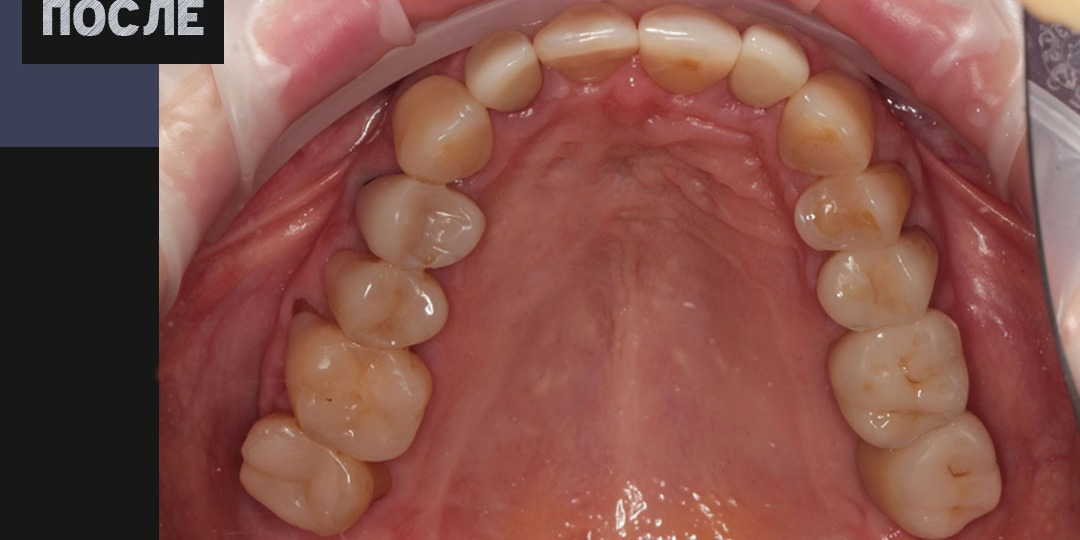UL1BC_decay: (797, 174, 900, 253)
UL1M_healthy: (833, 321, 968, 445)
UL2BC_healthy: (818, 242, 928, 328)
UL2M_decay: (876, 420, 1002, 536)
ULCI_decay: (637, 9, 740, 88)
ULC_healthy: (778, 85, 871, 175)
ULLI_healthy: (731, 27, 808, 105)
UR1BC_healthy: (358, 180, 484, 267)
UR1M_healthy: (289, 320, 428, 461)
UR2BC_healthy: (330, 259, 446, 347)
UR2M_healthy: (240, 419, 364, 533)
URCI_healthy: (535, 12, 635, 83)
URC_healthy: (392, 76, 493, 179)
URLI_healthy: (465, 32, 538, 111)
